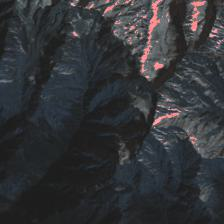landslides: (121, 167, 135, 189), (147, 141, 161, 162), (65, 91, 82, 105), (55, 89, 69, 101)
